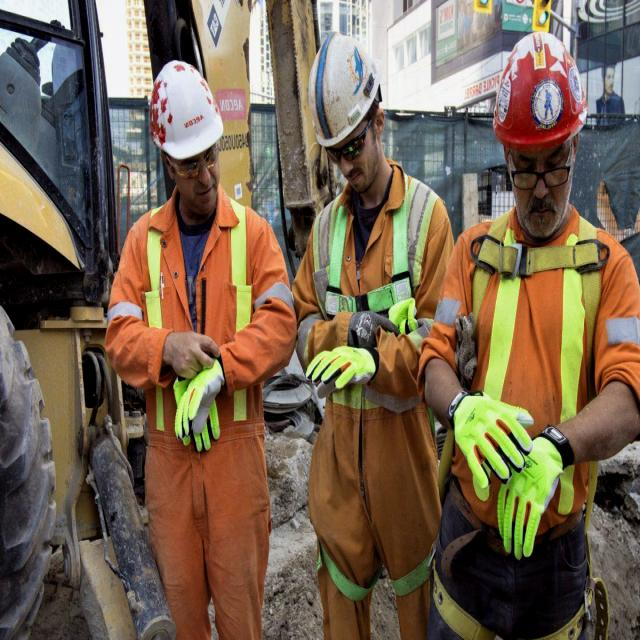face_nomask: (506, 131, 581, 254), (165, 132, 238, 222), (324, 112, 390, 193)
glasses: (509, 160, 573, 198), (174, 142, 222, 185), (324, 132, 370, 166)
hand_glove: (489, 426, 582, 552), (448, 387, 540, 482), (167, 355, 231, 449), (305, 333, 378, 407)
hand_noglove: (160, 318, 218, 384)
head_helmet: (491, 29, 590, 147), (308, 31, 382, 147), (147, 58, 225, 161)
person: (423, 39, 640, 640), (292, 39, 454, 638), (122, 61, 288, 640)
vest: (449, 227, 610, 526), (114, 204, 266, 448), (304, 186, 424, 420)
